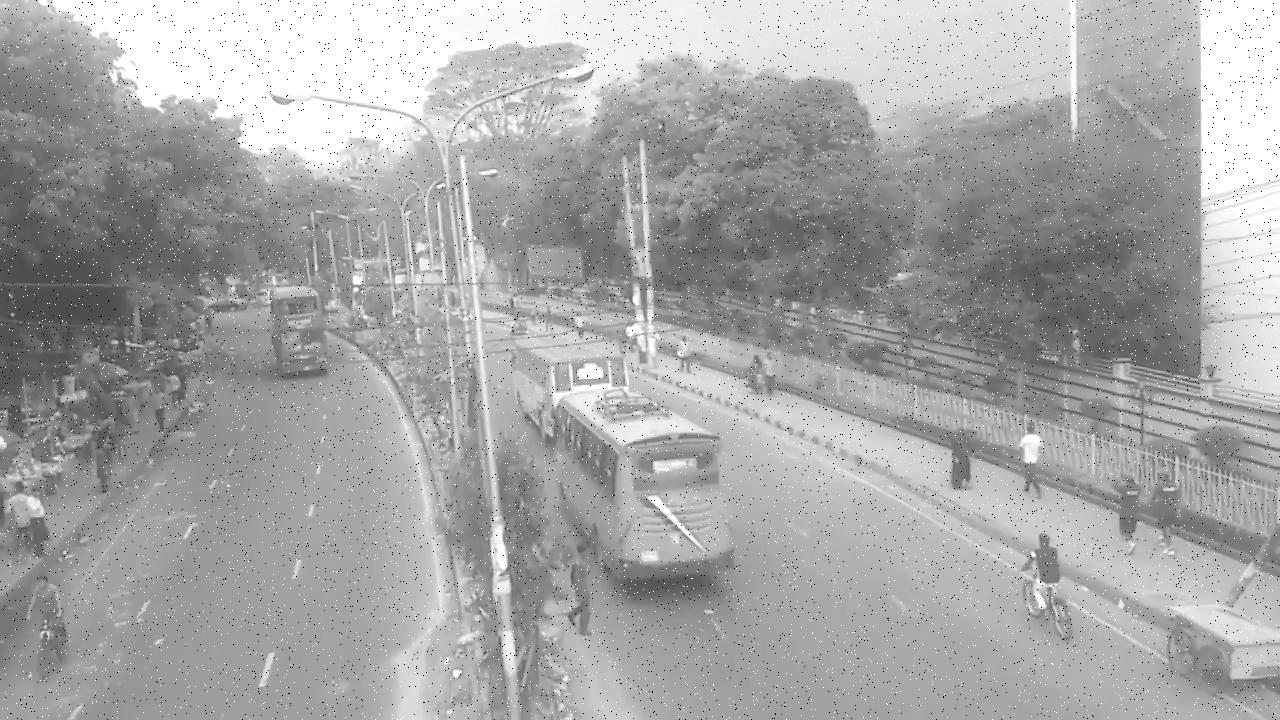bus: (579, 391, 736, 582), (516, 337, 630, 444), (262, 288, 336, 378)
motor cycle: (1019, 552, 1077, 642), (33, 609, 69, 683)
